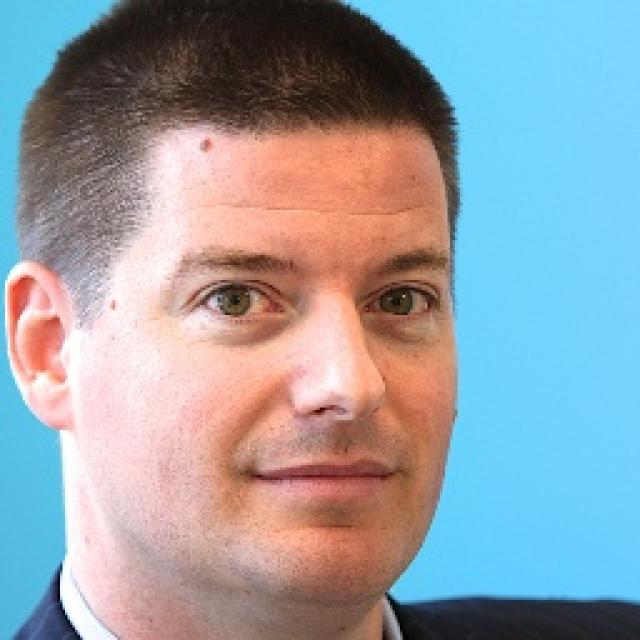earlobe: (29, 375, 73, 429)
eye: (192, 284, 284, 316), (366, 287, 439, 322)
nose: (295, 405, 383, 453)
wholeear: (4, 262, 74, 430)
